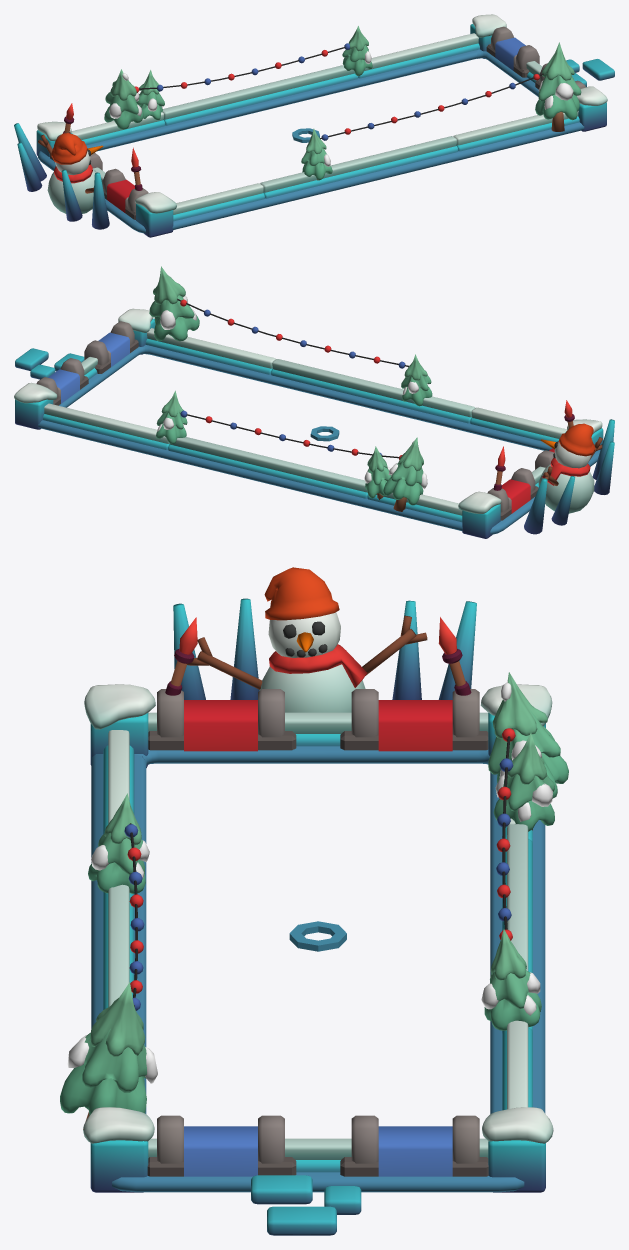
File: Arena2.fbx
3 views of the same model, one above another, from view 1: azimuth 30°, elevation 25°; view 2: azimuth 150°, elevation 25°; view 3: azimuth 270°, elevation 25° (orthographic). The views are drawn at different scales.
Parts seen in each view (by area): view 1: Circle.067, Circle.066, Sphere.001, Tree.003, Circle.062, Cube.054, Circle.064, Cube.055, Cube.059, Tree.001, Cube.060, Circle.054 (+22 smaller); view 2: Circle.066, Circle.067, Sphere.001, Cube.059, Circle.062, Tree.003, Circle.064, Cube.055, Cube.054, Tree.001, Cube.060, Circle.054 (+22 smaller); view 3: Cube.060, Cube.059, Sphere.001, Cube.055, Tree.003, Circle.066, Circle.068, Cube.054, Circle.067, Circle.065, Tree.001, Tree.005 (+20 smaller).
Boxes of the visible parts, x1=… form: Circle.067: x1=172, y1=122, x2=584, y2=229; Circle.066: x1=86, y1=50, x2=477, y2=151; Sphere.001: x1=38, y1=133, x2=103, y2=213; Tree.003: x1=535, y1=42, x2=581, y2=131; Circle.062: x1=162, y1=65, x2=354, y2=119; Cube.054: x1=36, y1=121, x2=176, y2=237; Circle.064: x1=260, y1=136, x2=456, y2=192; Cube.055: x1=470, y1=14, x2=607, y2=131; Cube.059: x1=486, y1=26, x2=585, y2=89; Tree.001: x1=104, y1=69, x2=143, y2=129; Cube.060: x1=50, y1=134, x2=148, y2=219; Circle.054: x1=163, y1=73, x2=358, y2=125; Circle.066: x1=38, y1=420, x2=462, y2=530; Circle.067: x1=148, y1=345, x2=552, y2=450; Sphere.001: x1=538, y1=423, x2=602, y2=513; Cube.059: x1=36, y1=321, x2=138, y2=405; Circle.062: x1=169, y1=437, x2=367, y2=492; Tree.003: x1=149, y1=266, x2=199, y2=341; Circle.064: x1=272, y1=359, x2=475, y2=417; Cube.055: x1=14, y1=308, x2=155, y2=429; Cube.054: x1=458, y1=419, x2=603, y2=538; Tree.001: x1=383, y1=437, x2=427, y2=511; Cube.060: x1=487, y1=448, x2=554, y2=520; Circle.054: x1=168, y1=444, x2=367, y2=498; Cube.060: x1=148, y1=689, x2=488, y2=751; Cube.059: x1=147, y1=1115, x2=488, y2=1176; Sphere.001: x1=187, y1=567, x2=427, y2=712; Cube.055: x1=83, y1=1107, x2=553, y2=1192; Tree.003: x1=60, y1=982, x2=157, y2=1129; Circle.066: x1=490, y1=772, x2=545, y2=1113; Circle.068: x1=112, y1=1172, x2=524, y2=1192; Cube.054: x1=84, y1=684, x2=552, y2=767; Circle.067: x1=91, y1=754, x2=146, y2=1113; Circle.065: x1=134, y1=746, x2=489, y2=765; Tree.001: x1=488, y1=672, x2=568, y2=798; Tree.005: x1=481, y1=929, x2=541, y2=1030.
Bounding box in the file's own units: 45.11 × 7.46 × 17.68.
